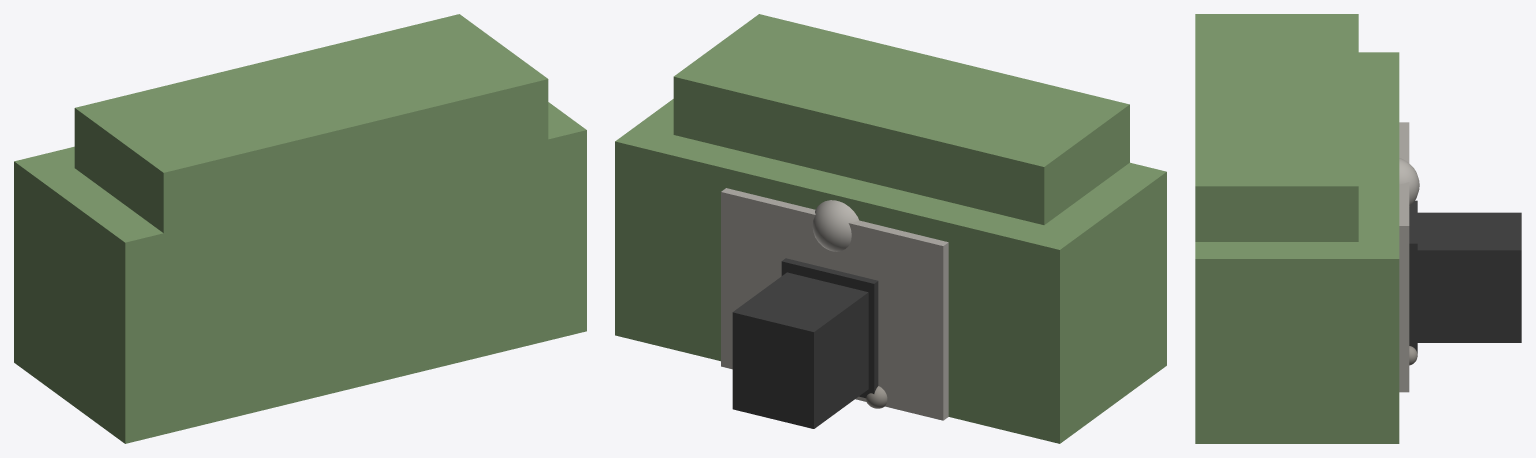
Rendered from cave_entrance.glb.
3 views of the same model, side by side, from view 1: azimuth 30°, elevation 25°; view 2: azimuth 150°, elevation 25°; view 3: azimuth 270°, elevation 25° (orthographic). The views are drawn at different scales.
Parts seen in each view (by area): view 1: hill_base, hill_top; view 2: hill_base, hill_top, rock_face, interior, opening, boulder_top; view 3: hill_base, hill_top, interior, rock_face, opening, boulder_top.
Boxes of the visible parts, x1,y1,x2,y2 form: hill_base: (14, 102, 586, 443); hill_top: (74, 14, 548, 292); hill_base: (615, 99, 1166, 443); hill_top: (673, 14, 1129, 224); rock_face: (721, 188, 948, 420); interior: (732, 272, 868, 428); opening: (781, 258, 878, 398); boulder_top: (812, 200, 859, 251); hill_base: (1195, 52, 1399, 443); hill_top: (1195, 14, 1358, 241); interior: (1417, 212, 1521, 342); rock_face: (1399, 122, 1409, 392); opening: (1409, 200, 1417, 353); boulder_top: (1399, 158, 1419, 206).
Size of the model in its own units: 12 by 6.6 by 8.
